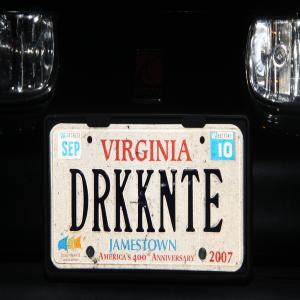Vehicle-registration-plate: (49, 125, 246, 271)
